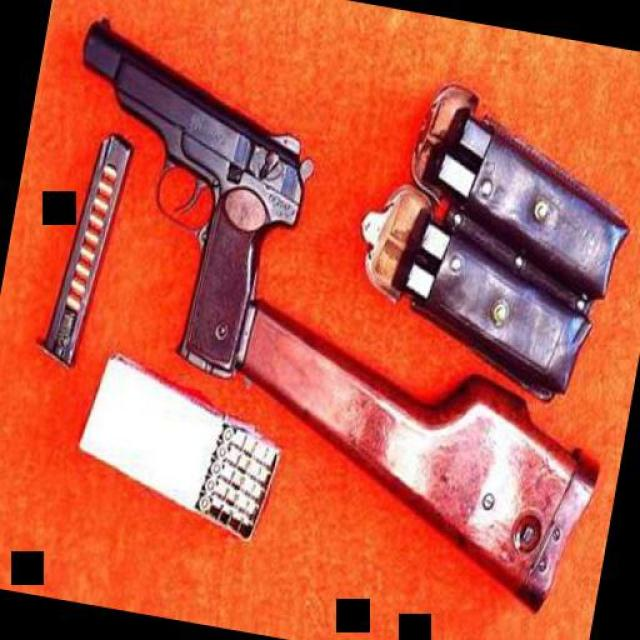gun: (29, 6, 329, 385)
